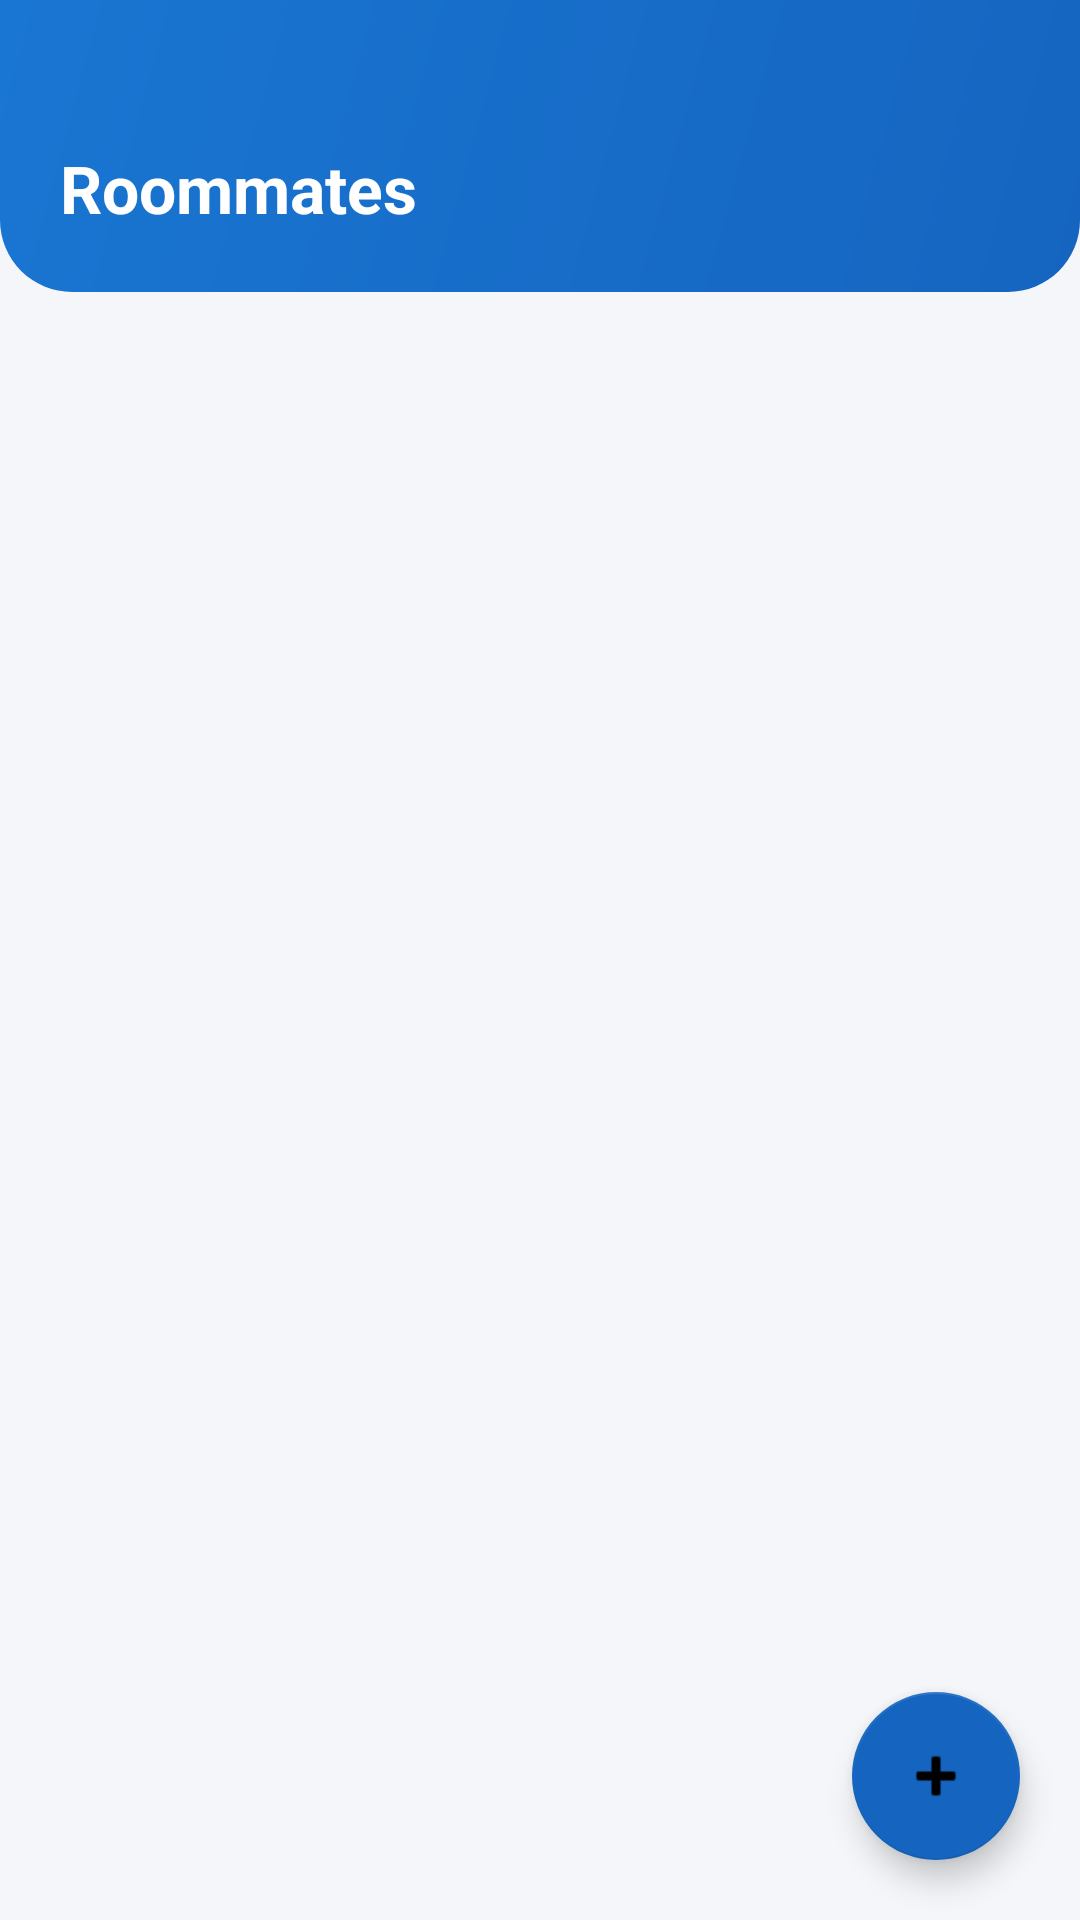

Where icons sit on this 1080w x 1920h app screen, as (x1, y1, x2, y2):
Add Roommate: (852, 1692, 1020, 1860)
